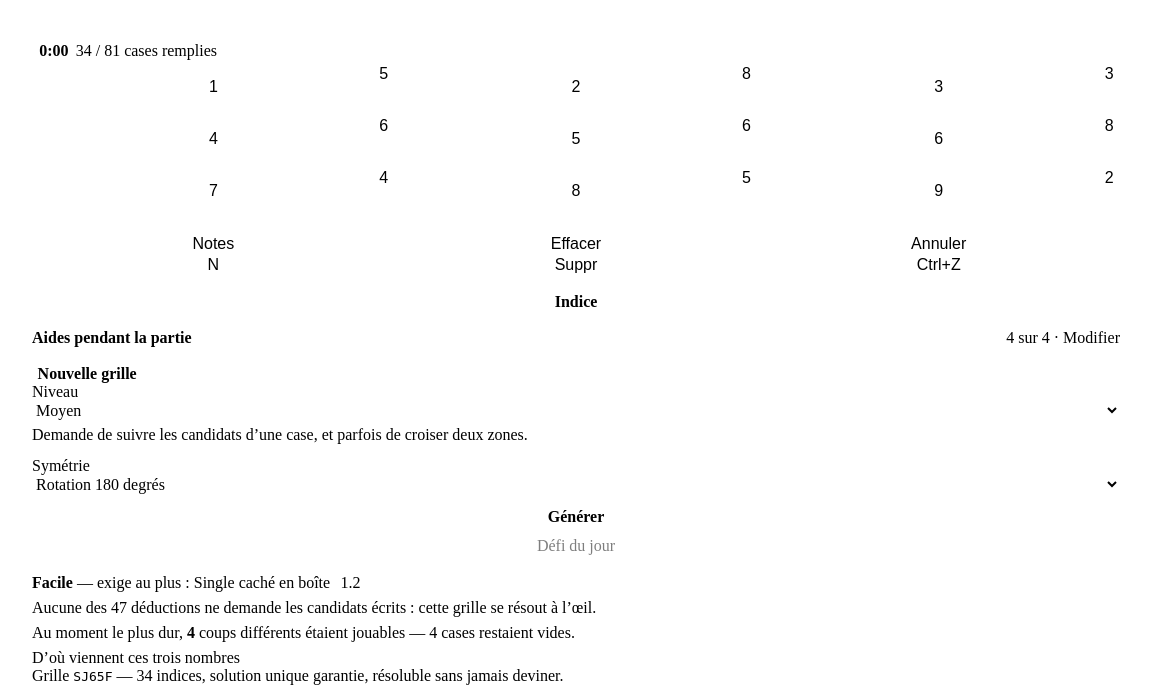
it: accessibilité de l’application › mène aux aides depuis l’onglet Jouer
(page scrolled)
Step 1. Click the button with class "assists-link" → click(112, 338), box left=32, top=329, right=1120, bottom=347
(page scrolled)
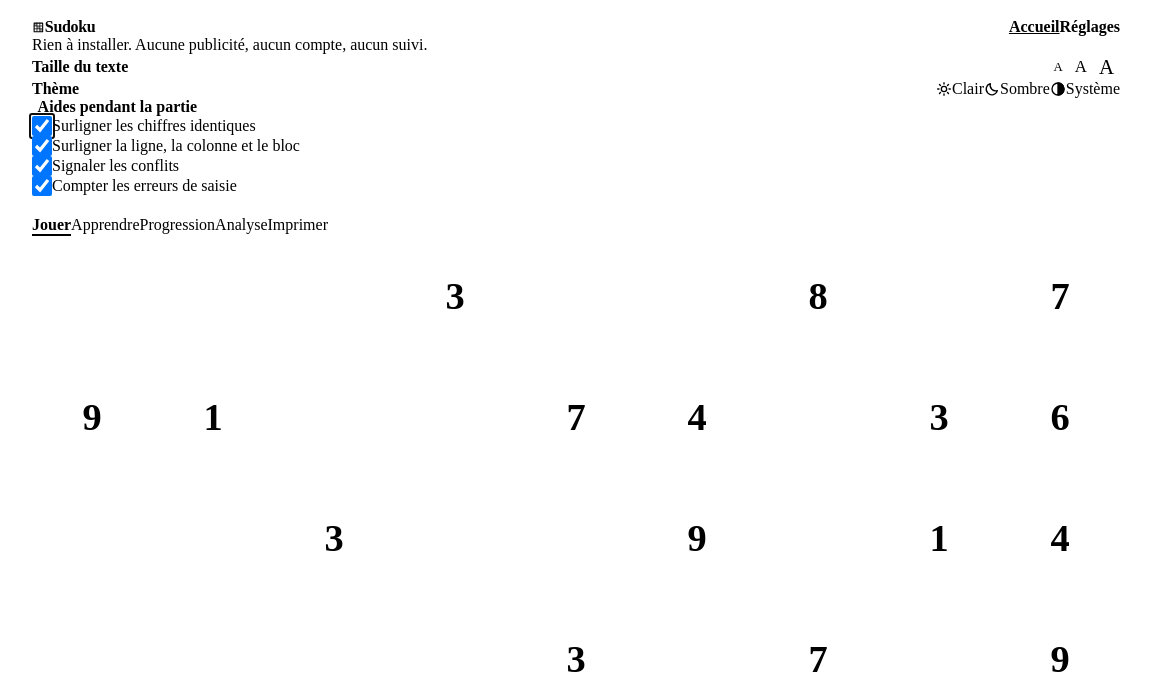
Check: the text "Surligner les chiffres identiques" is shown, box left=32, top=116, right=256, bottom=136
